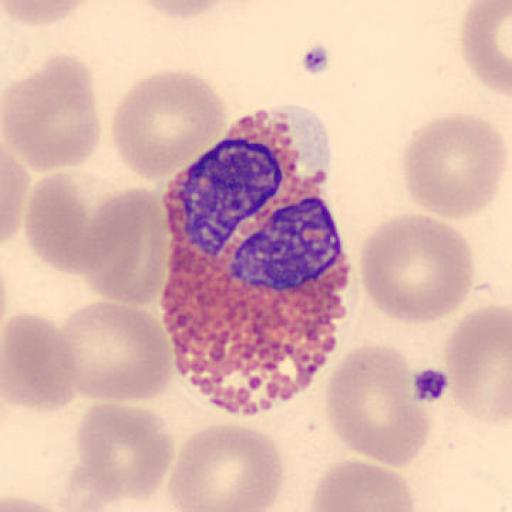RBC: (324, 342, 432, 468), (358, 212, 476, 326), (110, 68, 227, 182), (0, 52, 102, 172), (400, 111, 509, 222), (58, 299, 174, 403), (80, 186, 174, 306), (166, 421, 285, 512), (74, 402, 176, 504), (24, 170, 104, 274), (443, 304, 512, 424), (2, 311, 80, 413), (306, 458, 418, 512), (459, 0, 511, 97), (0, 147, 30, 247), (3, 0, 97, 27), (129, 0, 231, 20), (1, 493, 69, 512)
WBC: (160, 123, 352, 416)
